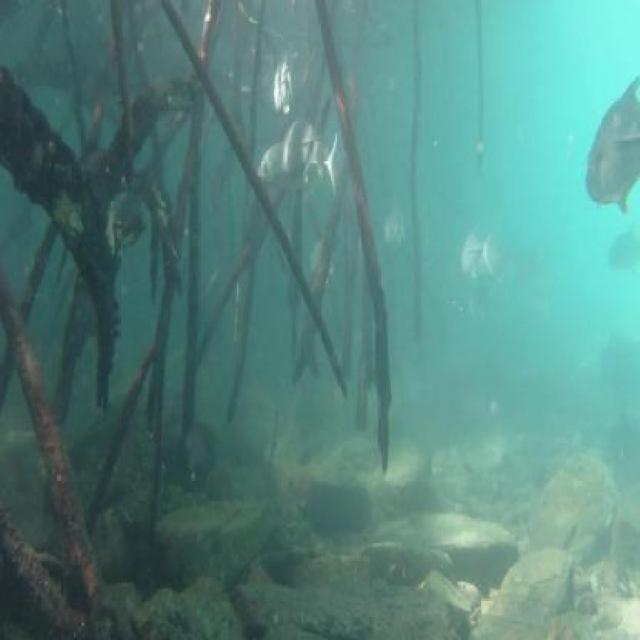Caranx_sexfasciatus_juvenile: (589, 70, 640, 222), (275, 102, 340, 198), (254, 127, 304, 216), (498, 224, 554, 293), (266, 37, 299, 128), (601, 222, 640, 291), (378, 211, 416, 258), (462, 229, 496, 280), (459, 300, 495, 346)
